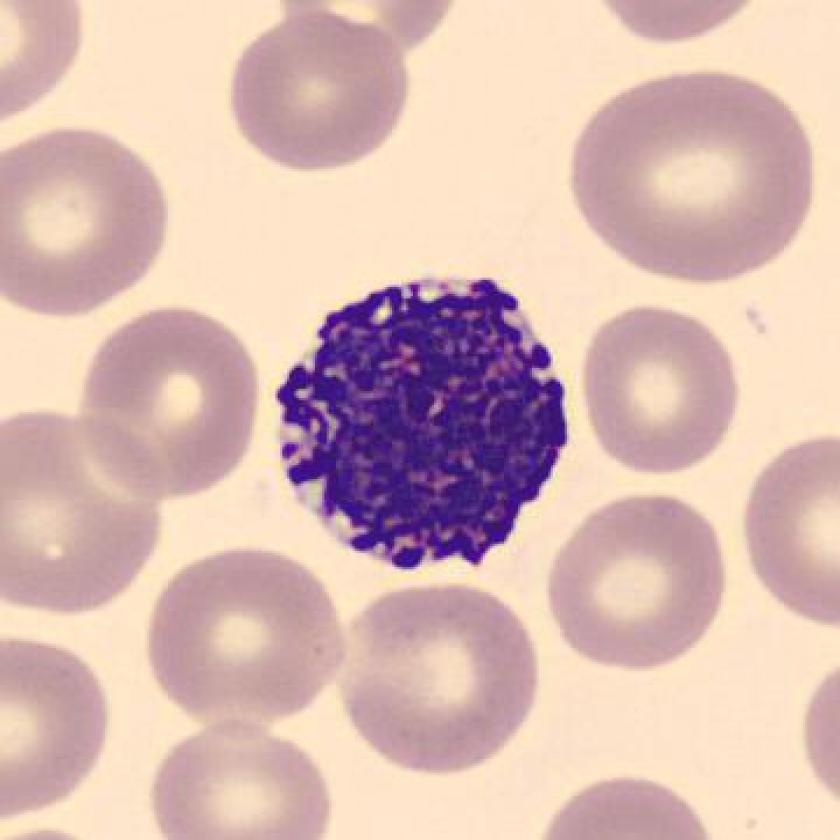basophil: (272, 265, 566, 584)
